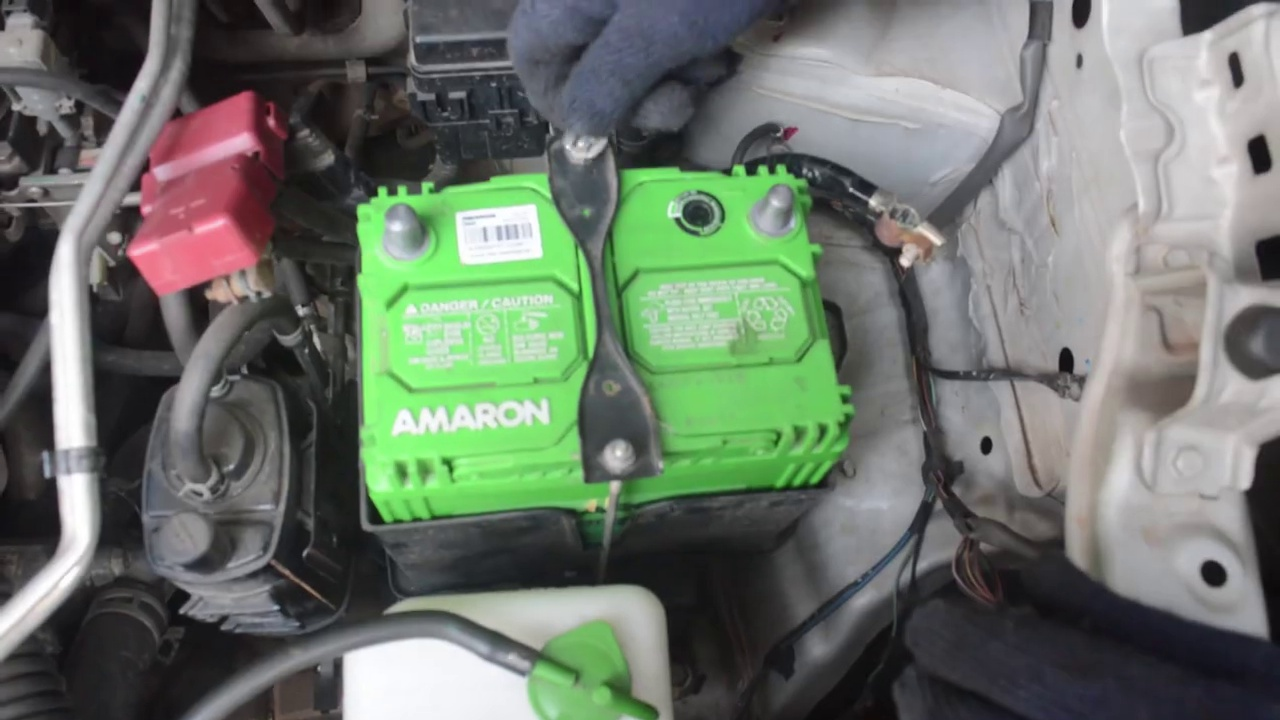battery: (333, 171, 858, 468)
neg_disconnected: (727, 162, 824, 246)
pos_disconnected: (138, 88, 444, 298)
